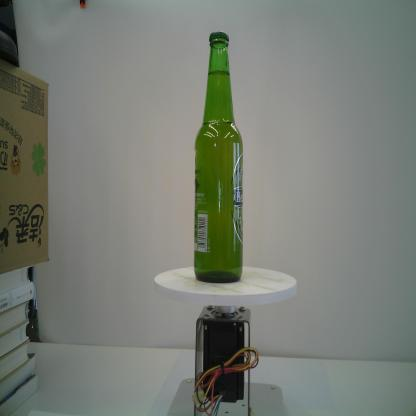Alcohol: (192, 29, 245, 283)
